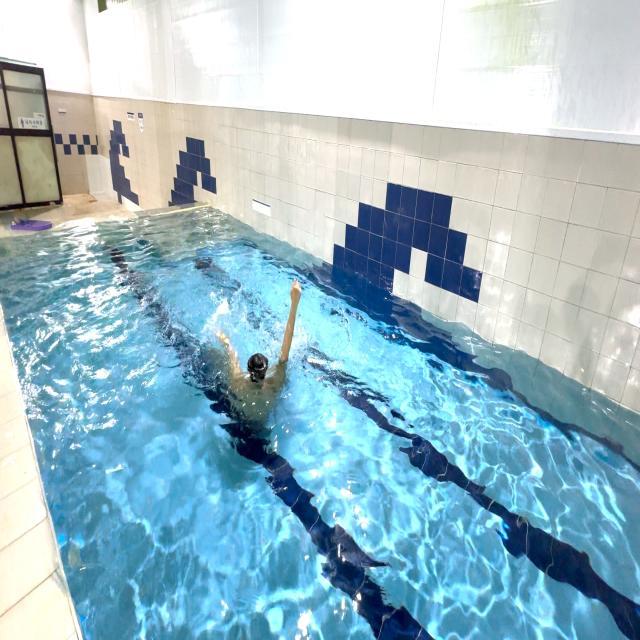Drowning: (198, 263, 318, 438)
